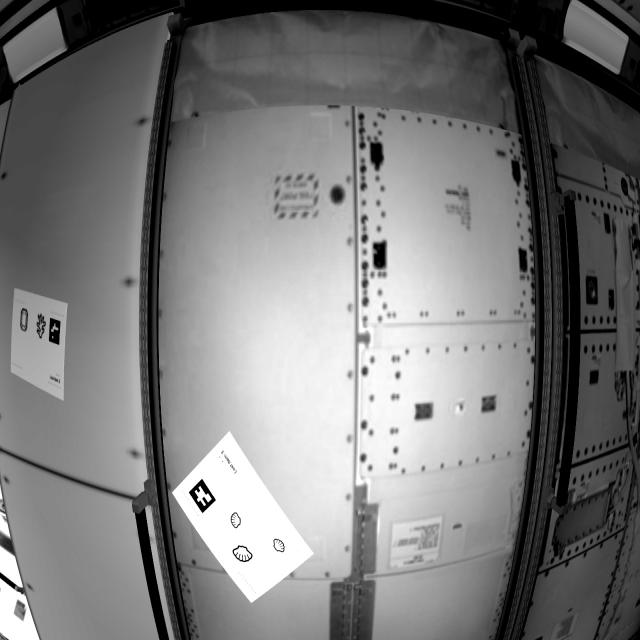coral: (36, 312, 48, 343)
emerald: (18, 306, 30, 335)
shell: (233, 543, 256, 567), (230, 511, 247, 531), (273, 537, 286, 555)
